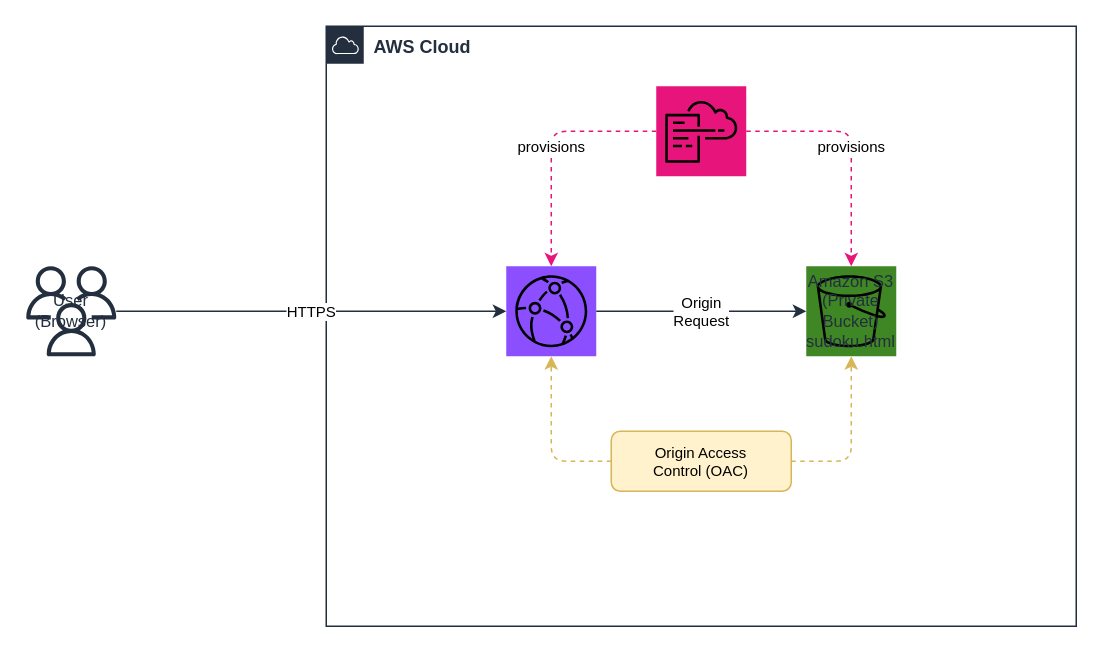
The diagram is 1103 pixels wide and 653 high, and some of its shapes have lost their labels. Each missing label, with the centre of its shape:
"Amazon CloudFront" belongs at (x=551, y=311).
"AWS CDK (Python)" belongs at (x=701, y=131).
